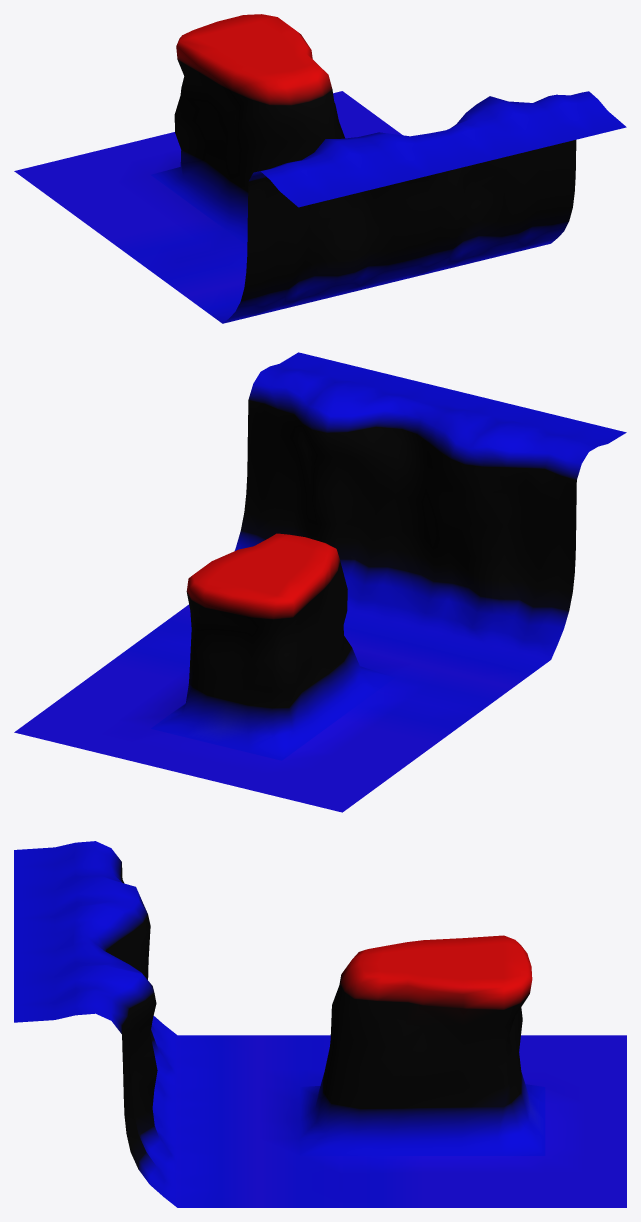
The model's file is WaterFallCliff02C 2M.fbx.
3 views of the same model, one above another, from view 1: azimuth 30°, elevation 25°; view 2: azimuth 150°, elevation 25°; view 3: azimuth 270°, elevation 25° (orthographic). The views are drawn at different scales.
Parts seen in each view (by area): view 1: WaterFallCliff02C 2M; view 2: WaterFallCliff02C 2M; view 3: WaterFallCliff02C 2M.
Boxes of the visible parts, box(x1,y1,x2,y2) form: WaterFallCliff02C 2M: box(14, 14, 626, 323); WaterFallCliff02C 2M: box(14, 352, 626, 812); WaterFallCliff02C 2M: box(14, 841, 626, 1207).
Bounding box in the file's own units: 2 × 1.08 × 3.
